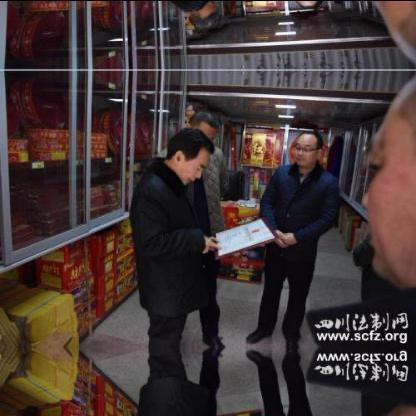No Helmet: (359, 76, 413, 282), (358, 0, 414, 61), (162, 122, 212, 181), (289, 126, 321, 168), (194, 107, 218, 144), (193, 0, 220, 29), (162, 0, 212, 14), (288, 0, 322, 11)
